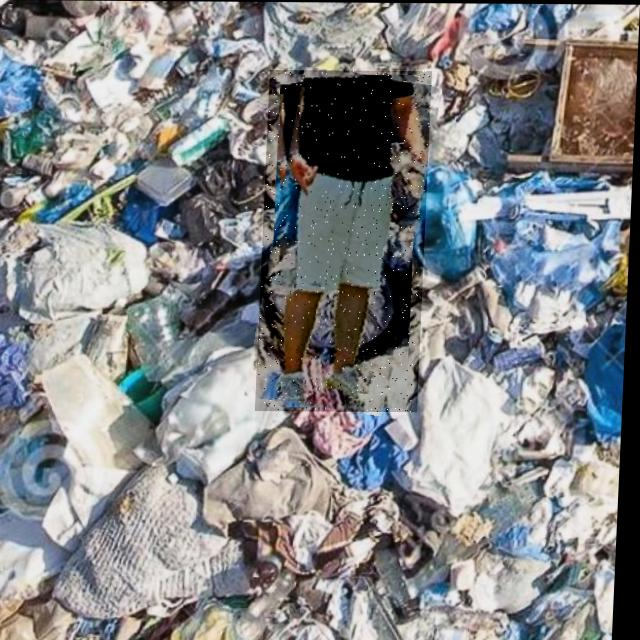Person in Rubble: (259, 70, 433, 412)
